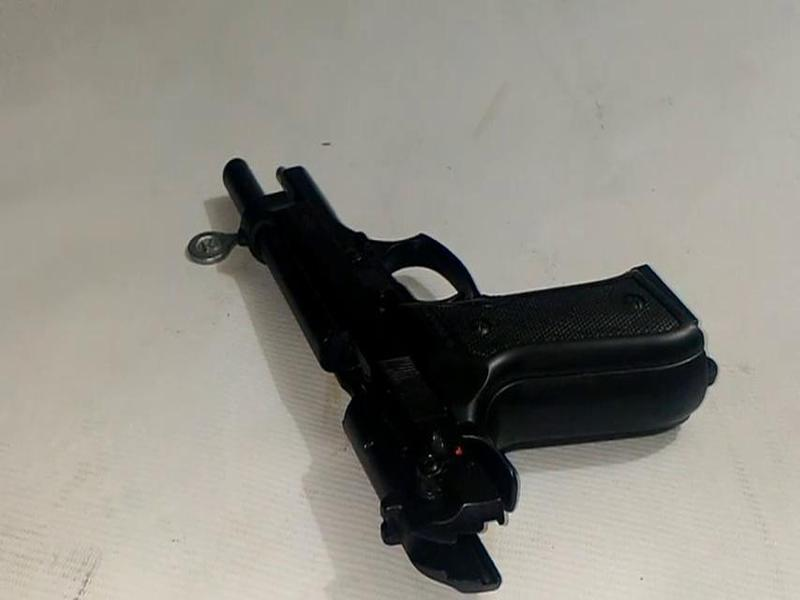Pistola: (181, 100, 747, 592)
